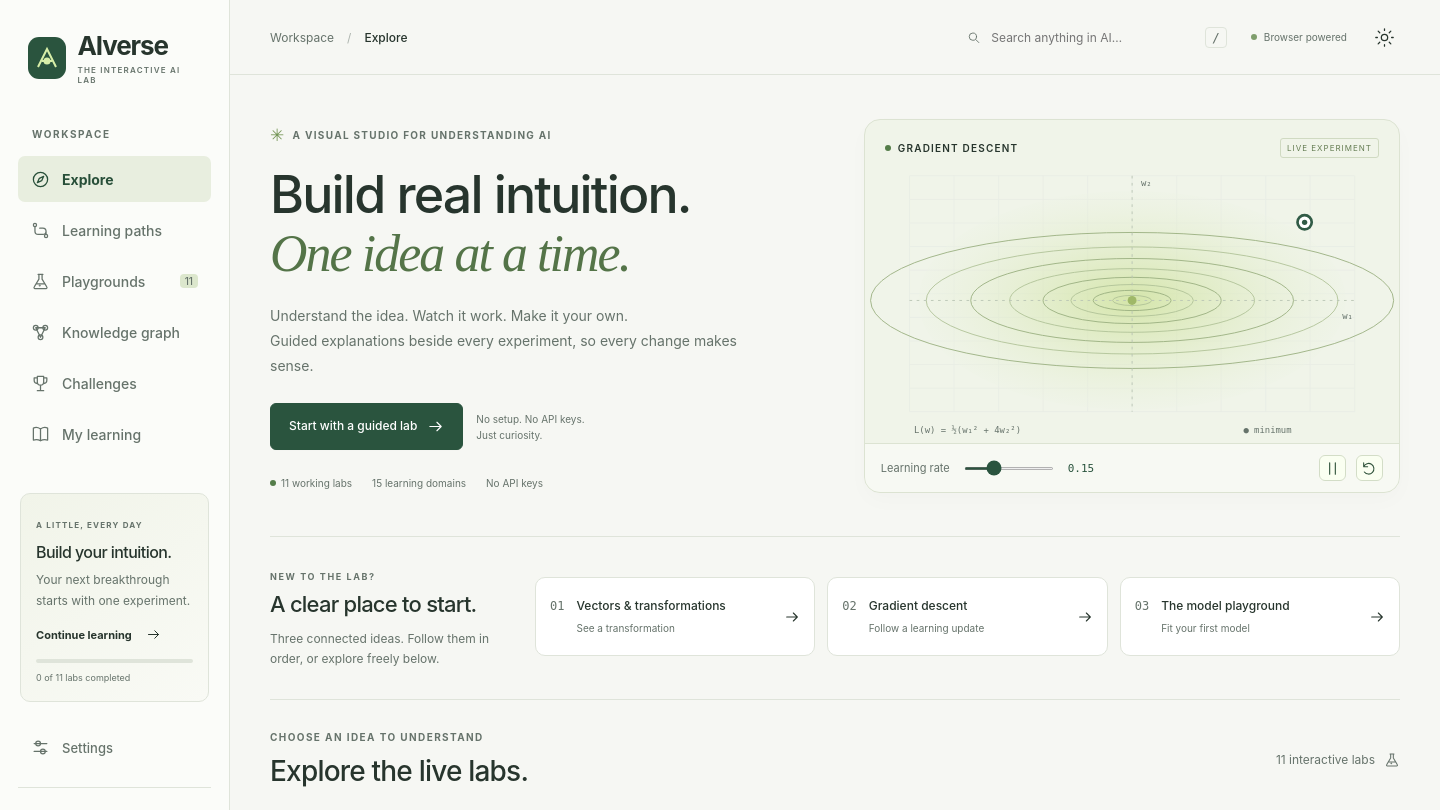
Test: application journeys › explores paths, the knowledge graph, and honest planned-topic results
Click the button "Learning paths": (114, 230) [18, 207, 211, 253]
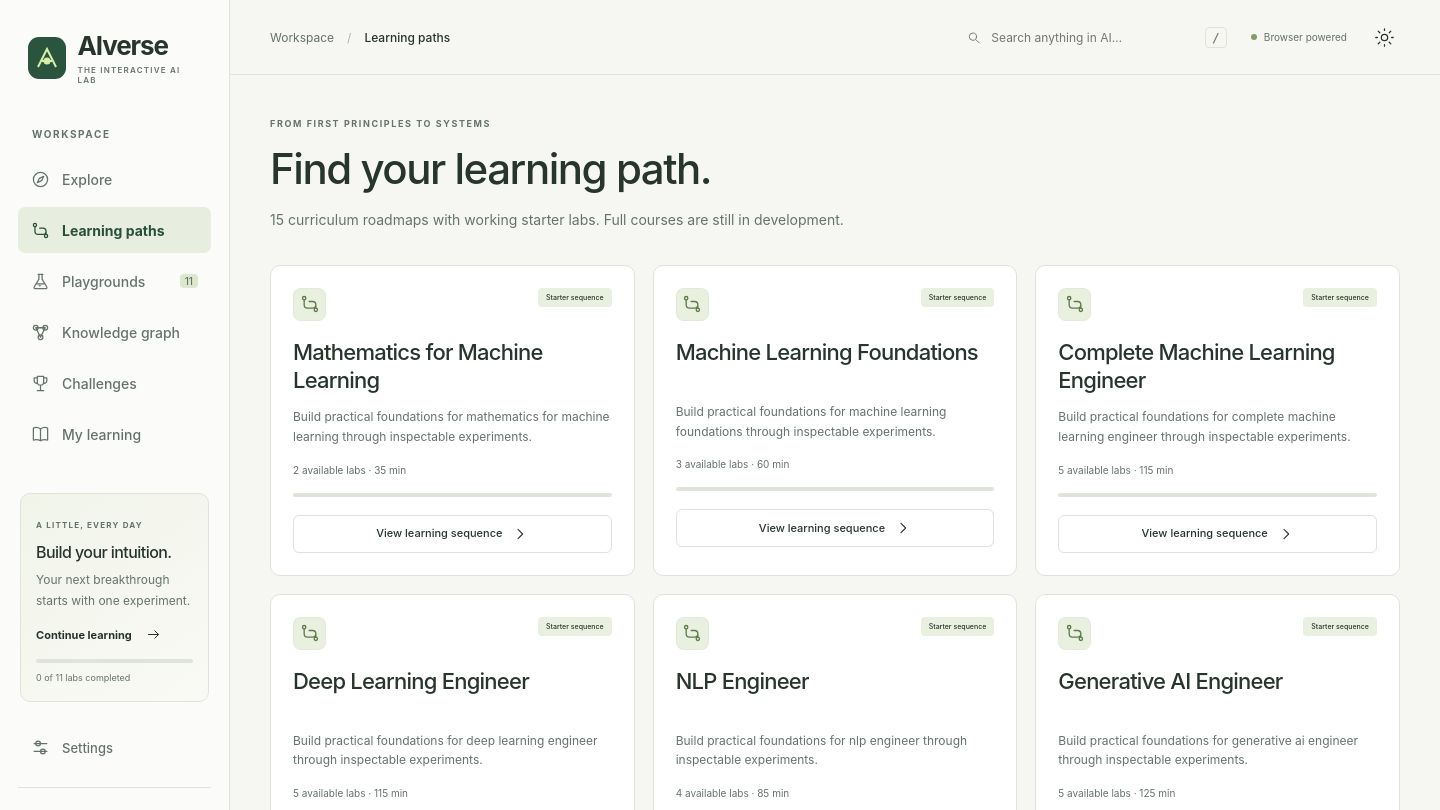
Check: the heading "Mathematics for Machine Learning" is shown, box [293, 339, 543, 394]
Click the button "Knowledge graph": (114, 332) [18, 309, 211, 355]
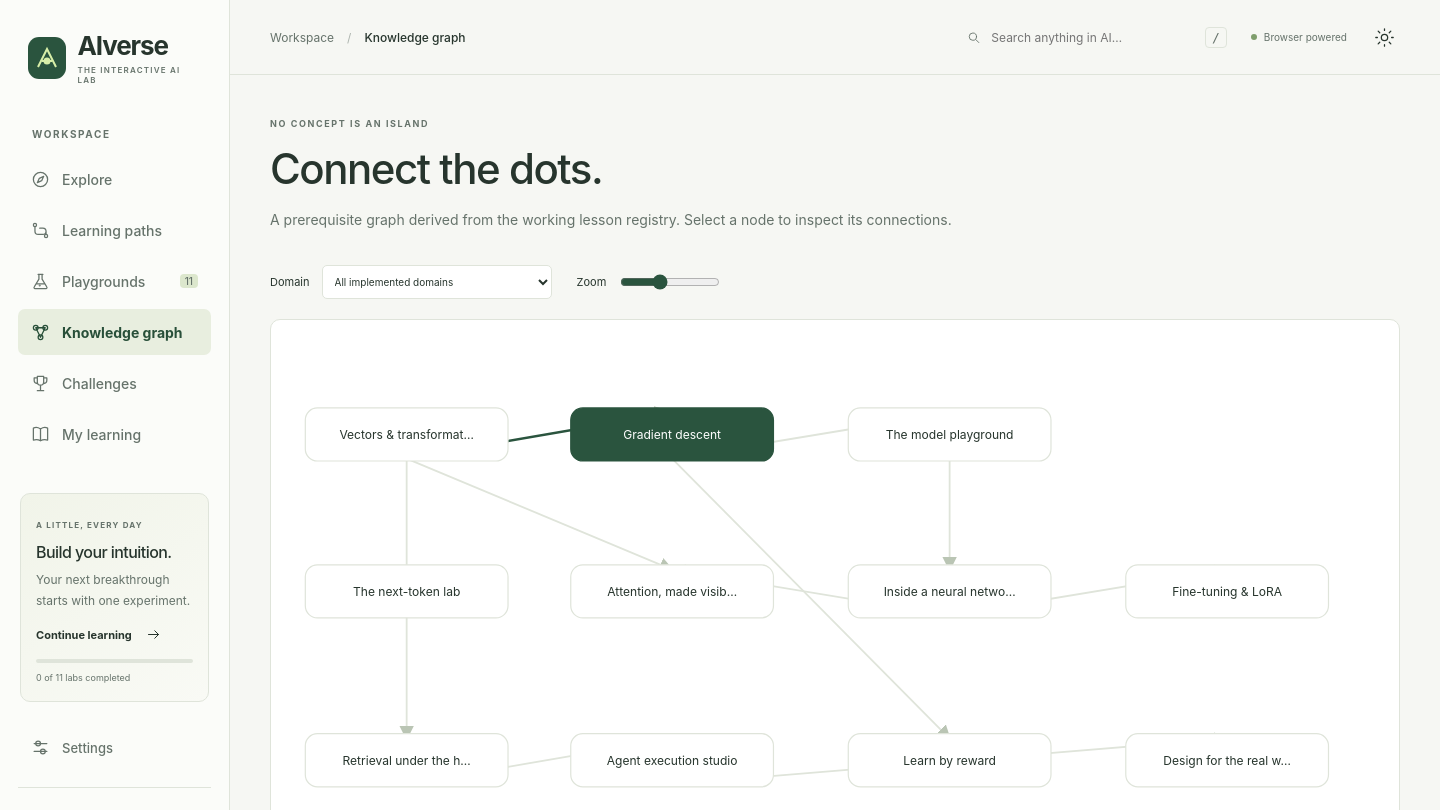
In the field named "Search concepts and labs": (1093, 37) [989, 28, 1196, 46], type "Mamba"
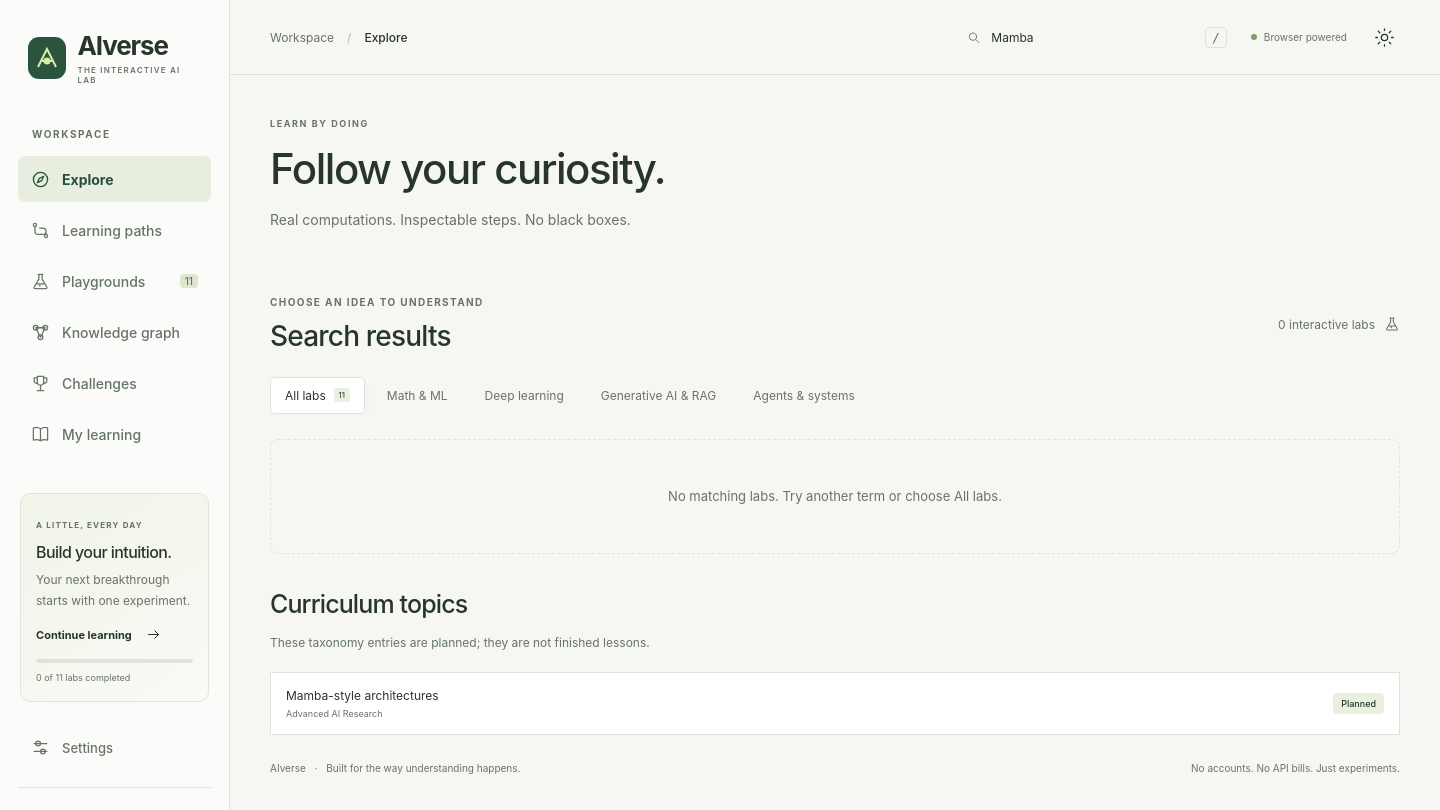
Check: the text "Mamba-style architectures" is shown, box [286, 688, 439, 703]
Check: the text "Planned" is shown, box [1333, 693, 1384, 714]
